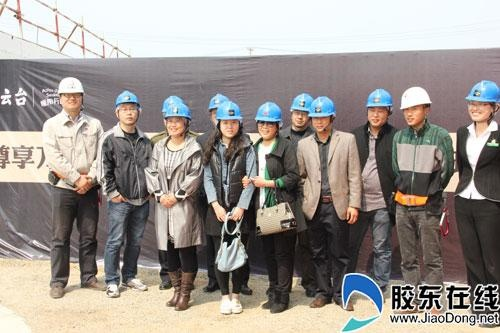blue: (462, 78, 499, 126), (251, 100, 284, 141), (362, 87, 394, 128), (214, 100, 245, 141), (160, 101, 192, 140), (112, 90, 142, 128), (308, 96, 336, 134), (288, 92, 315, 131)
white: (398, 85, 431, 127), (55, 75, 86, 114)
